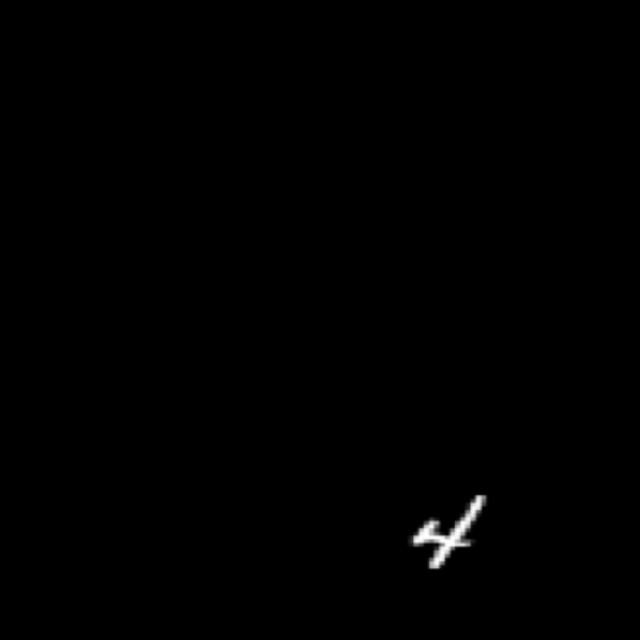four -4-: (392, 490, 508, 586)
